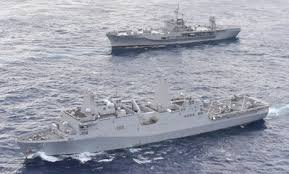tau_muctieu: (13, 86, 274, 152), (109, 10, 243, 51)
